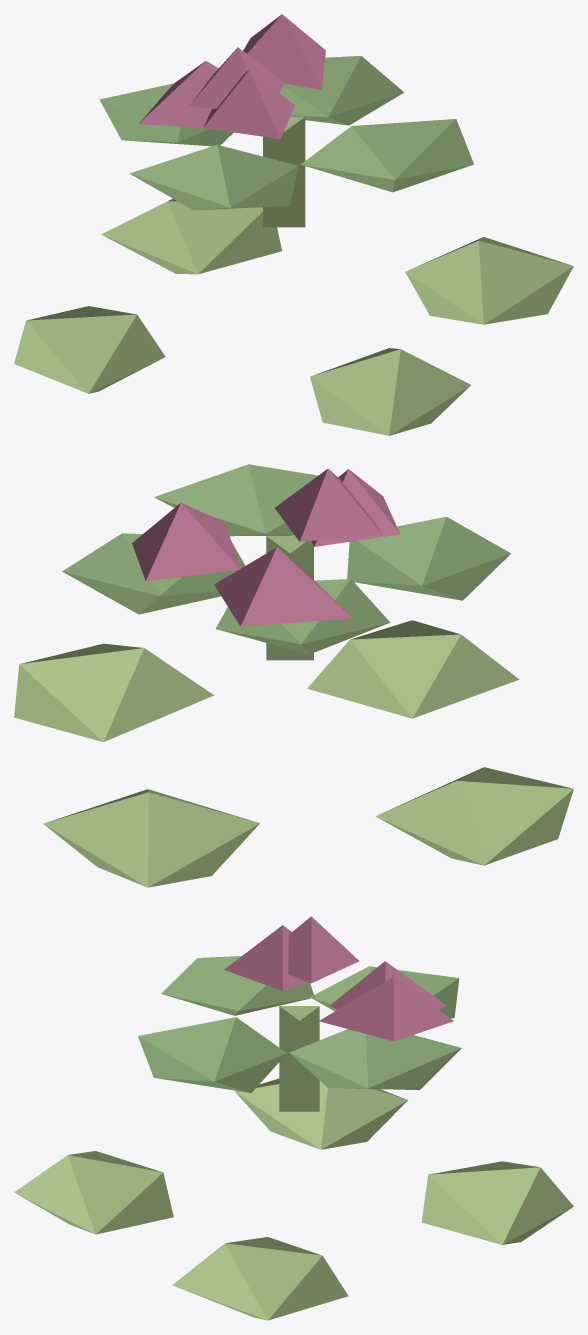
Rendered from shrub.cold.lichen__bloom.glb.
The picture shows the model from 3 angles, top to bottom: view 1: azimuth 30°, elevation 25°; view 2: azimuth 150°, elevation 25°; view 3: azimuth 270°, elevation 25°; orthographic projection. The views are drawn at different scales.
Visible parts, largest first — view 1: shrub.cold.lichen__bloom; view 2: shrub.cold.lichen__bloom; view 3: shrub.cold.lichen__bloom.
Boxes of the visible parts, <box> form: shrub.cold.lichen__bloom: <box>14,14,573,435</box>; shrub.cold.lichen__bloom: <box>14,464,573,887</box>; shrub.cold.lichen__bloom: <box>14,916,573,1320</box>.
Bounding box in the file's own units: 0.8845 × 0.5123 × 0.8651.
